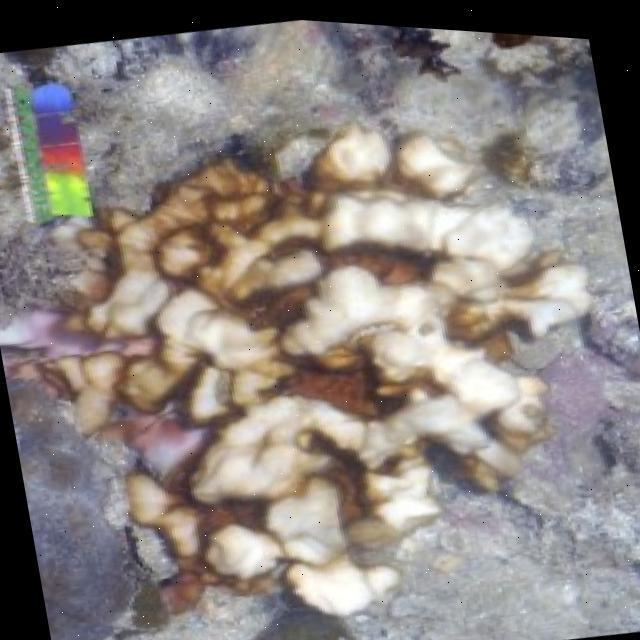Bleached Coral: (9, 21, 640, 640)
